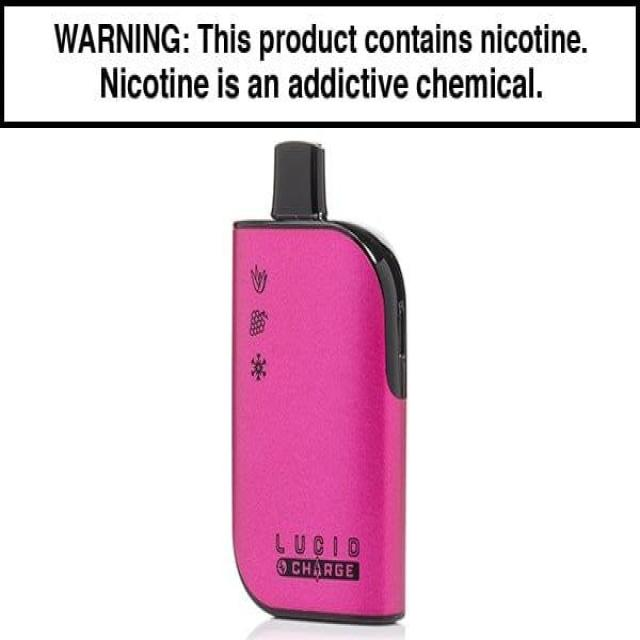Vape-images: (230, 139, 408, 626)
